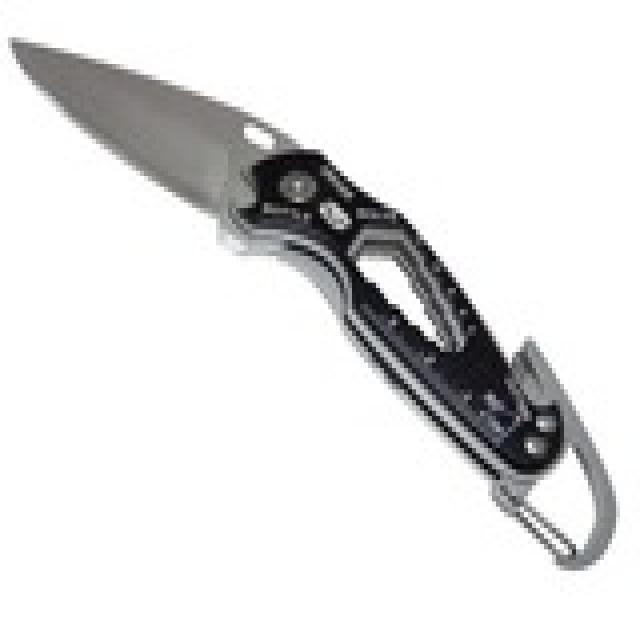Knife: (8, 24, 614, 577)
